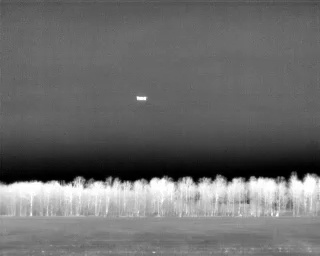DRONE: (133, 91, 151, 105)
